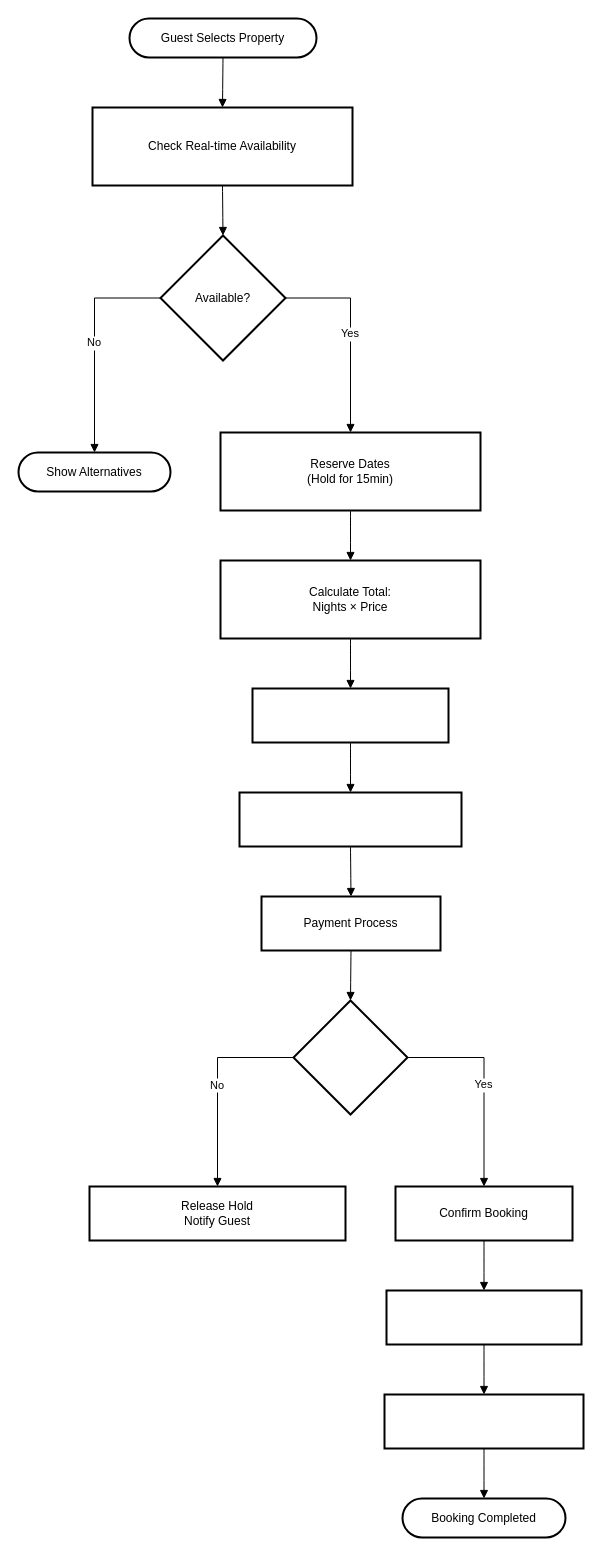
The diagram is 601 pixels wide and 1555 high, and some of its shapes have lost their labels. The shapes that lost their labels are listed below. From the top down, each one's centre as x and y in pixels, then its label:
At point 350,715: "Guest Details Form".
At point 350,819: "Create Booking Record".
At point 350,1057: "Success?".
At point 483,1317: "Update Availability".
At point 483,1421: "Send Confirmations".
